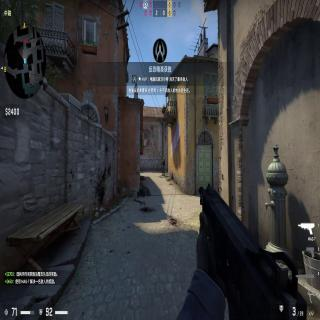T-Body: (162, 156, 165, 176)
